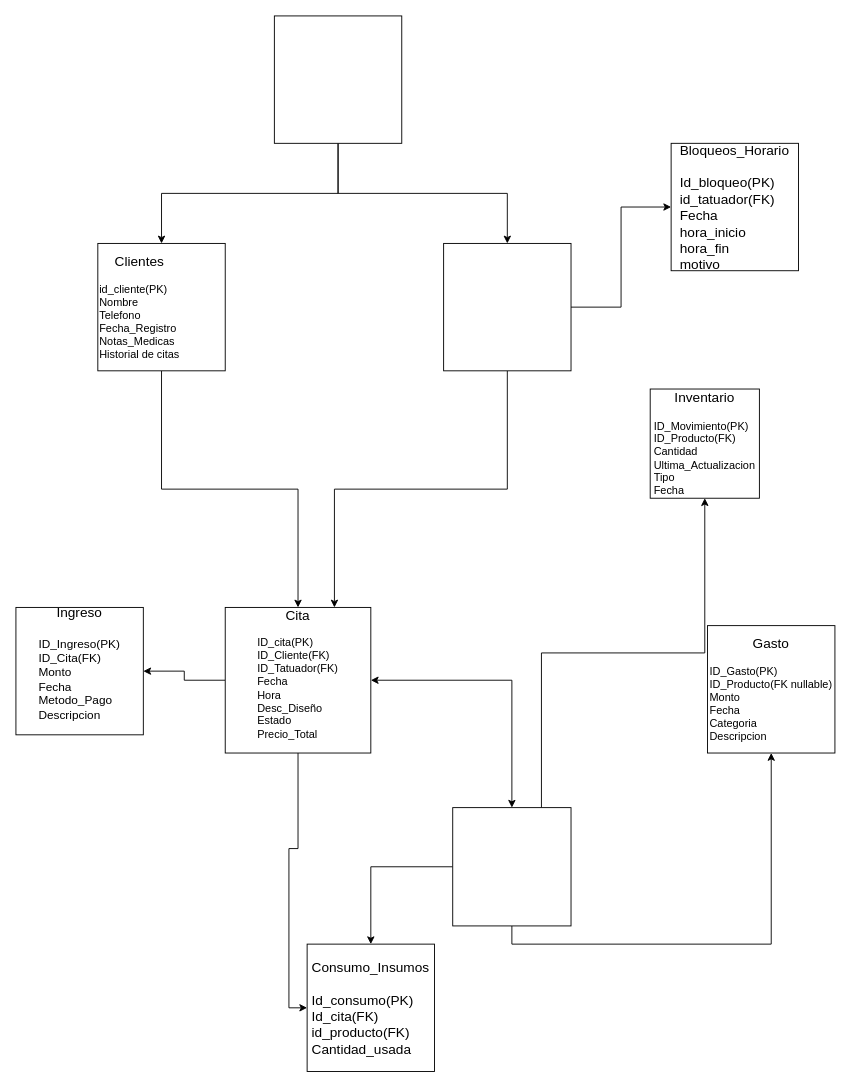
Some shapes in this 851 by 1087 pixel diagram are drawn without their labels. The shapes that lost their labels are listed below. From the top down, each one's centre as x and y in pixels, then its label:
At (337,79): "Tipo_usuario Id_usuario(PK) Email Contraseña Rol".
At (507,307): "Tatuador Id_tatuador(PK) Nombre Telefono Especialidad Activo".
At (511,866): "Producto ID_Producto(PK) Nombre Marca Stock_actual stock_minimo Categoria Precio".
